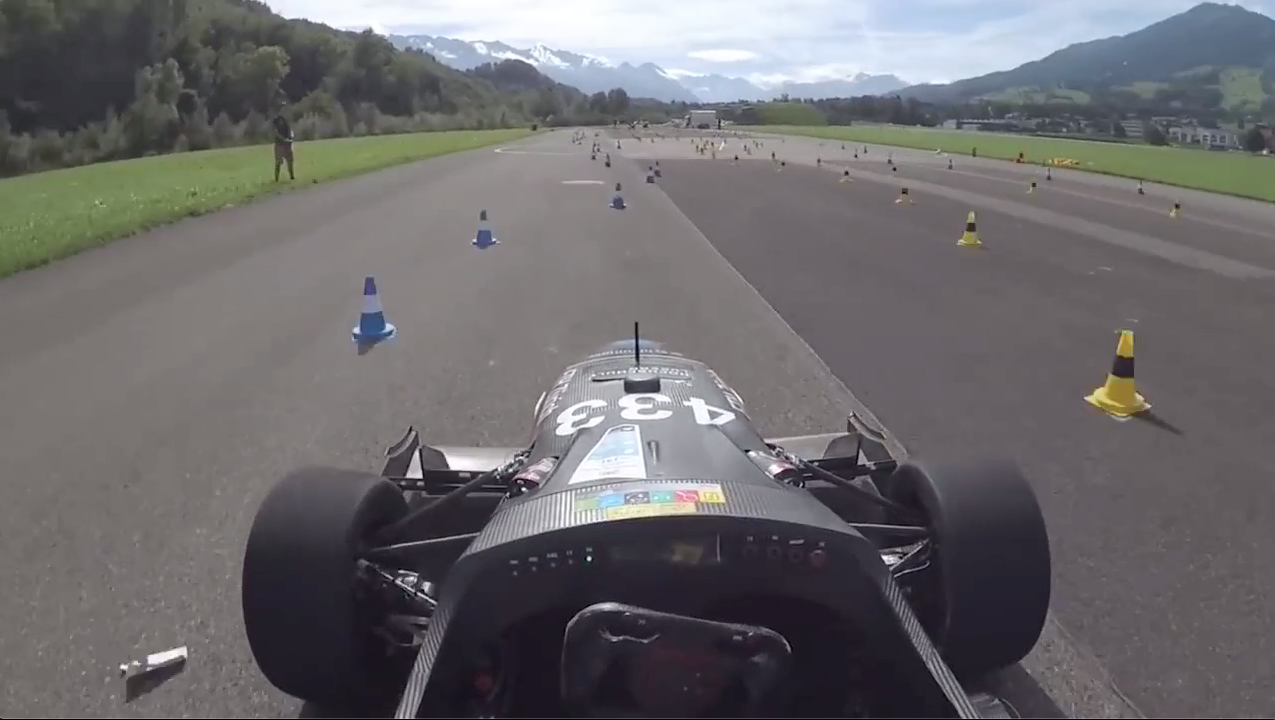lcone: (344, 273, 401, 345), (468, 206, 500, 251), (606, 179, 631, 212)
rcone: (1075, 324, 1153, 421), (953, 206, 990, 252)
